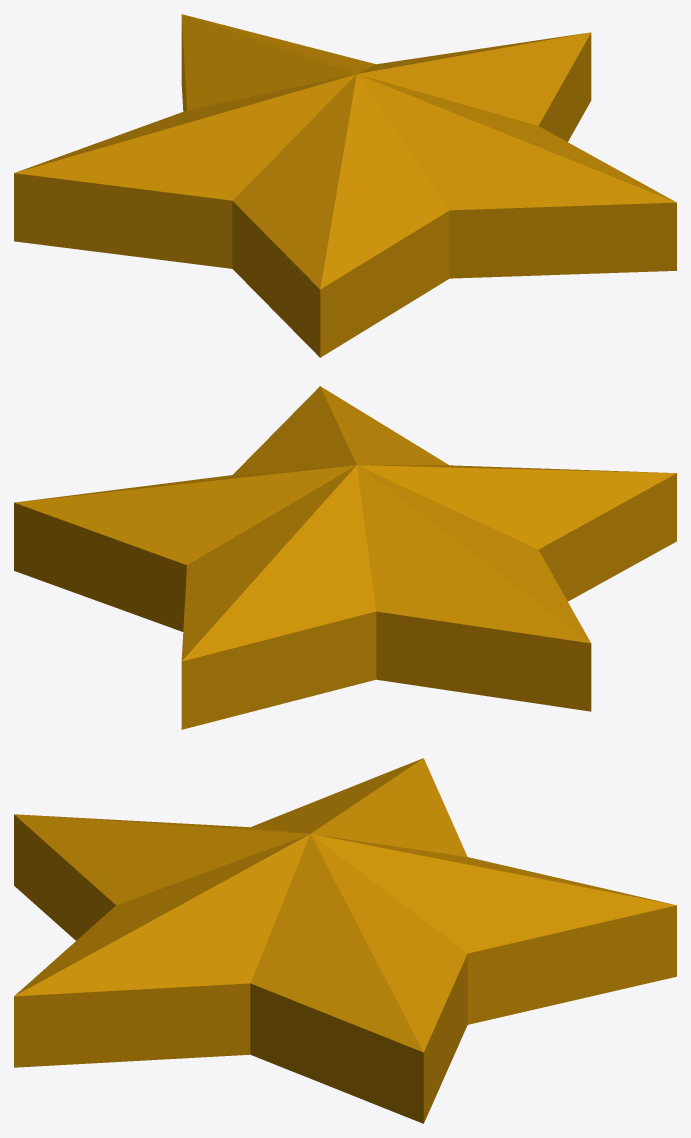
The model's file is star_prize.glb.
The picture shows the model from 3 angles, top to bottom: view 1: azimuth 30°, elevation 25°; view 2: azimuth 150°, elevation 25°; view 3: azimuth 270°, elevation 25°; orthographic projection. The views are drawn at different scales.
Parts seen in each view (by area): view 1: Star; view 2: Star; view 3: Star.
Boxes of the visible parts, box(x1,y1,x2,y2) form: Star: box(14, 14, 676, 357); Star: box(14, 386, 676, 729); Star: box(14, 758, 676, 1123).
Size of the model in its own units: 1.9 by 0.6446 by 1.81.
1 material, 1 textured.
